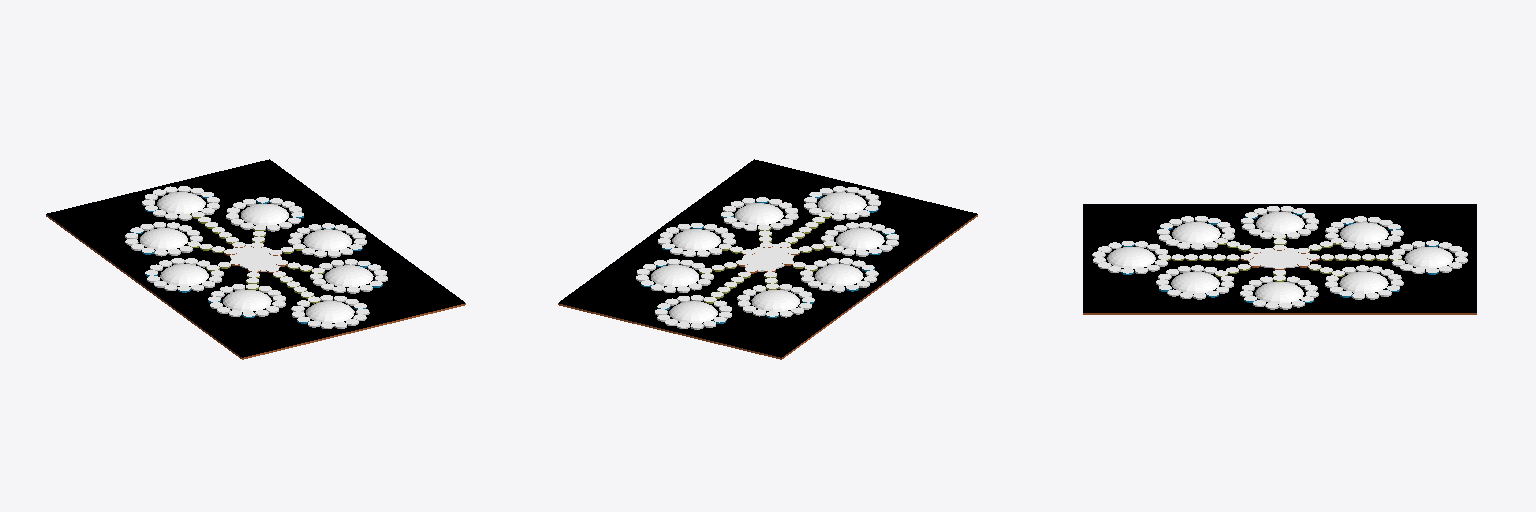
Rendered from gameboard.obj.
The picture shows the model from 3 angles: view 1: azimuth 30°, elevation 25°; view 2: azimuth 150°, elevation 25°; view 3: azimuth 270°, elevation 25°; orthographic projection.
Visible parts, largest first — view 1: Mesh.018_board, Mesh.140_board_hole_fire01_hol, Mesh.129_board_holes_hole_air0, Mesh.040_board_holes_hole_lang, Mesh.079_board_holes_hole_moth, Mesh.006_board_holes_hole_cult, Mesh.064_board_holes_hole_coun, Mesh.077_board_holes_hole_sacr, Mesh.037_board_holes_hole_wate, Mesh.089_board_meetingplace01; view 2: Mesh.018_board, Mesh.140_board_hole_fire01_hol, Mesh.079_board_holes_hole_moth, Mesh.006_board_holes_hole_cult, Mesh.040_board_holes_hole_lang, Mesh.077_board_holes_hole_sacr, Mesh.064_board_holes_hole_coun, Mesh.037_board_holes_hole_wate, Mesh.129_board_holes_hole_air0, Mesh.089_board_meetingplace01; view 3: Mesh.018_board, Mesh.064_board_holes_hole_coun, Mesh.140_board_hole_fire01_hol, Mesh.077_board_holes_hole_sacr, Mesh.129_board_holes_hole_air0, Mesh.006_board_holes_hole_cult, Mesh.079_board_holes_hole_moth, Mesh.040_board_holes_hole_lang, Mesh.037_board_holes_hole_wate, Mesh.089_board_meetingplace01.
Part boxes in pixels (left/top/right/bottom): Mesh.018_board: left=46, top=159, right=465, bottom=359; Mesh.140_board_hole_fire01_hol: left=160, top=264, right=208, bottom=285; Mesh.129_board_holes_hole_air0: left=303, top=229, right=351, bottom=251; Mesh.040_board_holes_hole_lang: left=325, top=265, right=373, bottom=286; Mesh.079_board_holes_hole_moth: left=157, top=192, right=205, bottom=213; Mesh.006_board_holes_hole_cult: left=223, top=290, right=271, bottom=311; Mesh.064_board_holes_hole_coun: left=241, top=203, right=288, bottom=225; Mesh.077_board_holes_hole_sacr: left=140, top=228, right=187, bottom=249; Mesh.037_board_holes_hole_wate: left=306, top=301, right=354, bottom=322; Mesh.089_board_meetingplace01: left=230, top=244, right=281, bottom=271; Mesh.018_board: left=558, top=159, right=977, bottom=359; Mesh.140_board_hole_fire01_hol: left=815, top=264, right=863, bottom=285; Mesh.079_board_holes_hole_moth: left=669, top=301, right=717, bottom=323; Mesh.006_board_holes_hole_cult: left=836, top=228, right=884, bottom=250; Mesh.040_board_holes_hole_lang: left=735, top=203, right=783, bottom=225; Mesh.077_board_holes_hole_sacr: left=751, top=290, right=799, bottom=311; Mesh.064_board_holes_hole_coun: left=651, top=265, right=698, bottom=286; Mesh.037_board_holes_hole_wate: left=818, top=192, right=866, bottom=213; Mesh.129_board_holes_hole_air0: left=672, top=229, right=720, bottom=250; Mesh.089_board_meetingplace01: left=742, top=244, right=794, bottom=271; Mesh.018_board: left=1083, top=204, right=1476, bottom=314; Mesh.064_board_holes_hole_coun: left=1339, top=271, right=1388, bottom=293; Mesh.140_board_hole_fire01_hol: left=1256, top=212, right=1304, bottom=233; Mesh.077_board_holes_hole_sacr: left=1340, top=222, right=1388, bottom=243; Mesh.129_board_holes_hole_air0: left=1255, top=282, right=1303, bottom=303; Mesh.006_board_holes_hole_cult: left=1172, top=222, right=1220, bottom=243; Mesh.079_board_holes_hole_moth: left=1404, top=247, right=1453, bottom=268; Mesh.040_board_holes_hole_lang: left=1171, top=271, right=1219, bottom=293; Mesh.037_board_holes_hole_wate: left=1107, top=247, right=1155, bottom=268; Mesh.089_board_meetingplace01: left=1248, top=248, right=1311, bottom=267.
Size of the model in its own units: 6.56 by 0.2569 by 9.97.